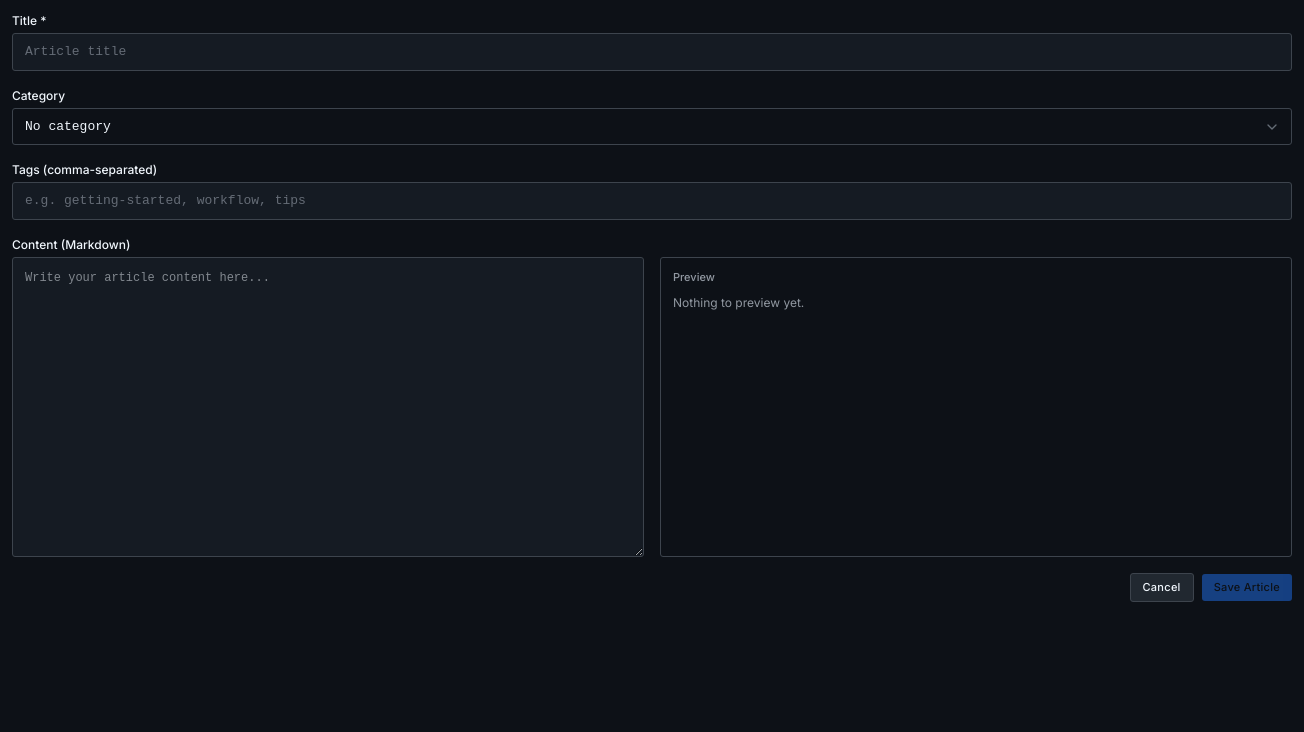
Test: WikiArticleEditor › generates slug from title
The width and height of the screenshot is (1304, 732).
Type "How to Use Workflows" into the field with test id "wiki-title-input" at (652, 52), box [12, 33, 1292, 71]
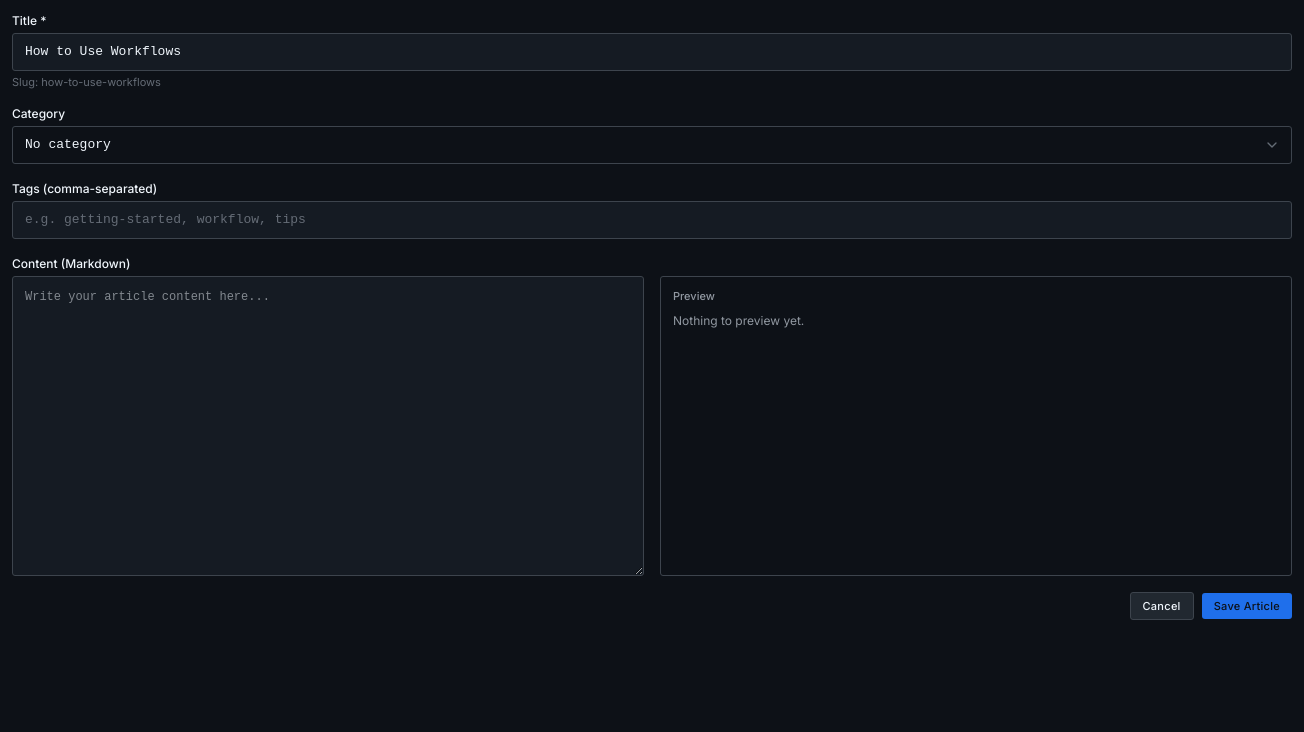
Expected: the text with test id "wiki-slug-preview" shows "how-to-use-workflows", [41, 75, 161, 89]
